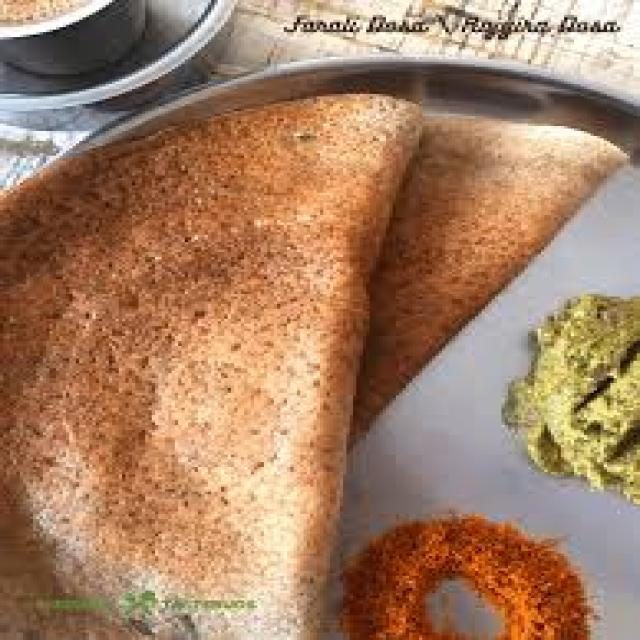DOSA: (0, 92, 422, 633), (343, 119, 628, 449)
